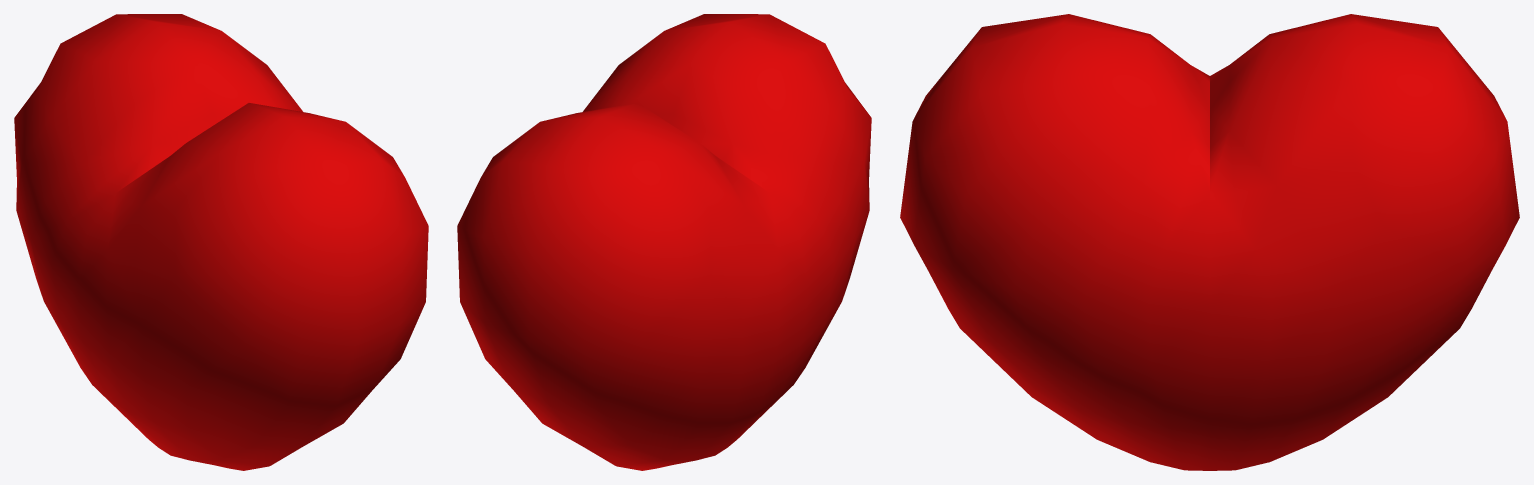
The model's file is Heart-object.glb.
3 views of the same model, side by side, from view 1: azimuth 30°, elevation 25°; view 2: azimuth 150°, elevation 25°; view 3: azimuth 270°, elevation 25° (orthographic). The views are drawn at different scales.
Parts seen in each view (by area): view 1: defaultMaterial.001; view 2: defaultMaterial.001; view 3: defaultMaterial.001.
Part boxes in pixels (box(x1,y1,x2,y2)): defaultMaterial.001: box(14, 14, 428, 470); defaultMaterial.001: box(457, 14, 871, 470); defaultMaterial.001: box(900, 14, 1519, 470).
Bounding box in the file's own units: 18.94 × 24.68 × 31.02.
1 material, 1 textured.
